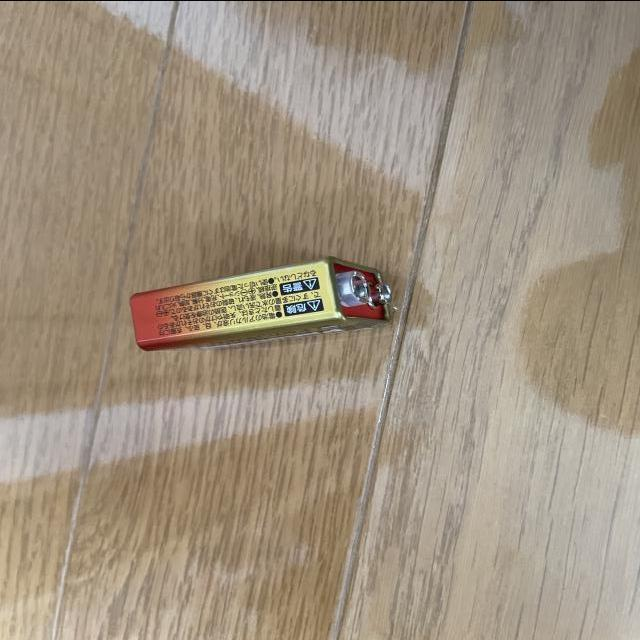9V: (128, 254, 394, 350)
